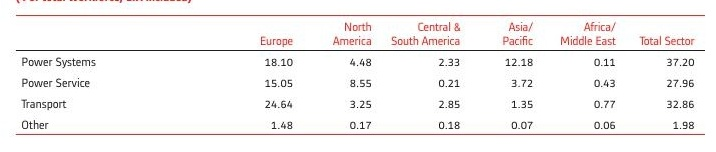table: (0, 0, 716, 152)
